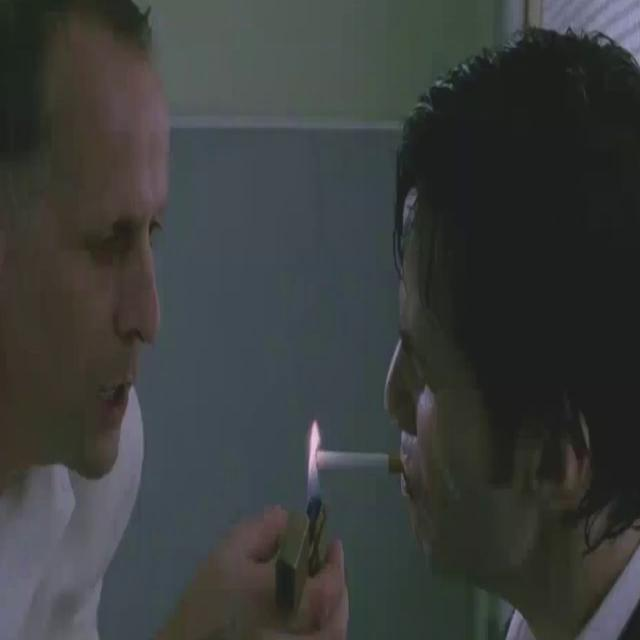Smooking: (311, 437, 404, 488)
